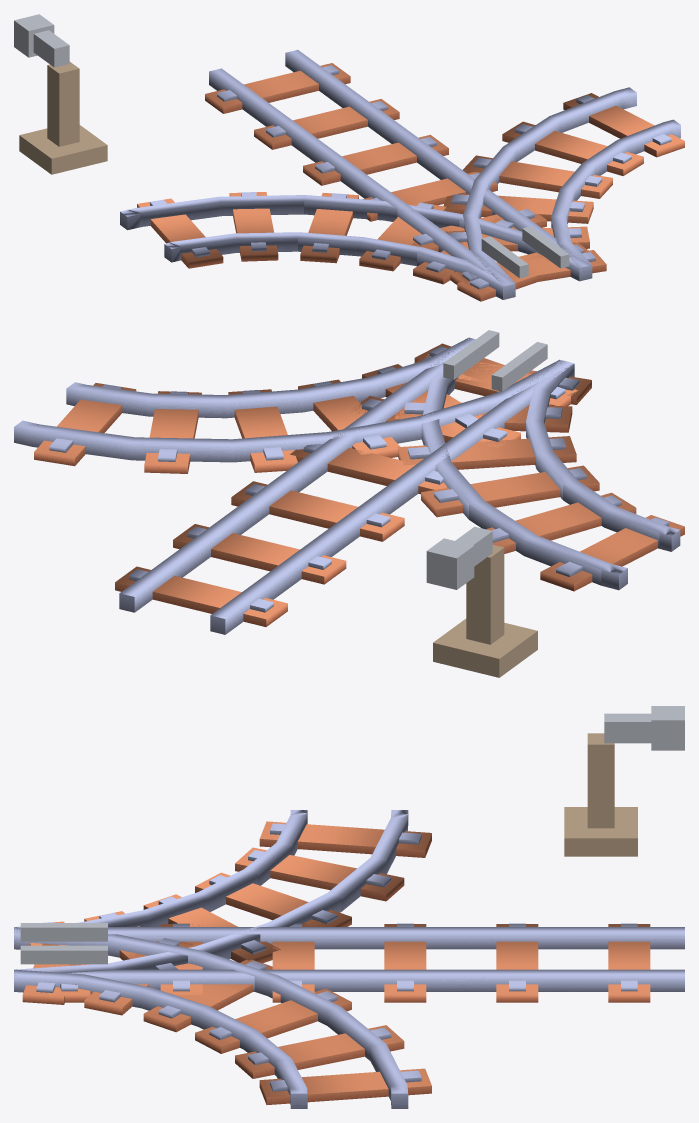
Rendered from switch-3way.glb.
3 views of the same model, one above another, from view 1: azimuth 30°, elevation 25°; view 2: azimuth 150°, elevation 25°; view 3: azimuth 270°, elevation 25° (orthographic). The views are drawn at different scales.
Parts seen in each view (by area): view 1: switch_through, switch_diverge_west, switch_diverge_east, switch_lever_base, switch_lever_arm, switch_blade_-1, switch_blade_1; view 2: switch_through, switch_diverge_east, switch_diverge_west, switch_lever_base, switch_lever_arm, switch_blade_1, switch_blade_-1; view 3: switch_through, switch_diverge_east, switch_diverge_west, switch_lever_base, switch_lever_arm, switch_blade_1, switch_blade_-1.
Part boxes in pixels (bbox=[...]): switch_through: bbox=[205, 50, 592, 299]; switch_diverge_west: bbox=[120, 192, 591, 301]; switch_diverge_east: bbox=[443, 87, 684, 285]; switch_lever_base: bbox=[19, 62, 107, 174]; switch_lever_arm: bbox=[14, 14, 69, 67]; switch_blade_-1: bbox=[481, 236, 528, 278]; switch_blade_1: bbox=[522, 226, 569, 268]; switch_through: bbox=[115, 338, 578, 634]; switch_diverge_east: bbox=[14, 337, 576, 473]; switch_diverge_west: bbox=[395, 338, 684, 591]; switch_lever_base: bbox=[433, 545, 537, 677]; switch_lever_arm: bbox=[426, 526, 492, 589]; switch_blade_1: bbox=[443, 330, 499, 379]; switch_blade_-1: bbox=[491, 342, 547, 391]; switch_through: bbox=[14, 923, 684, 1002]; switch_diverge_east: bbox=[14, 927, 431, 1108]; switch_diverge_west: bbox=[14, 810, 431, 994]; switch_lever_base: bbox=[564, 733, 637, 856]; switch_lever_arm: bbox=[604, 706, 684, 750]; switch_blade_1: bbox=[20, 945, 107, 964]; switch_blade_-1: bbox=[20, 923, 107, 941].
Bounding box in the file's own units: 4 × 0.84 × 4.
Materials: 5 (3 with a texture image).
